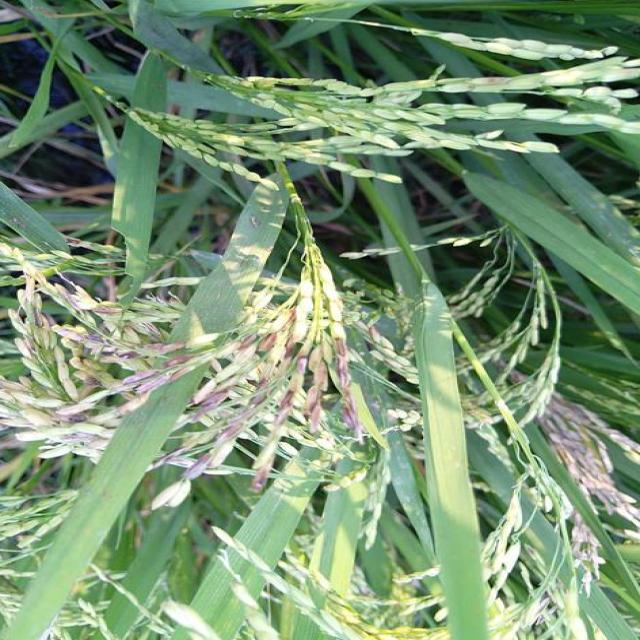Panicle Blight: (536, 391, 640, 532), (180, 388, 267, 479), (122, 351, 214, 394), (328, 333, 363, 431), (571, 512, 606, 596), (274, 356, 308, 437), (302, 346, 328, 433), (148, 436, 202, 470), (85, 331, 142, 363), (183, 388, 231, 424), (249, 456, 275, 493), (33, 295, 60, 327), (283, 304, 297, 359), (275, 390, 294, 425), (0, 376, 27, 399), (468, 74, 522, 85), (141, 341, 187, 353), (52, 432, 99, 443), (258, 332, 278, 351), (237, 332, 258, 349), (68, 410, 89, 423), (92, 306, 122, 313), (85, 375, 102, 387)
